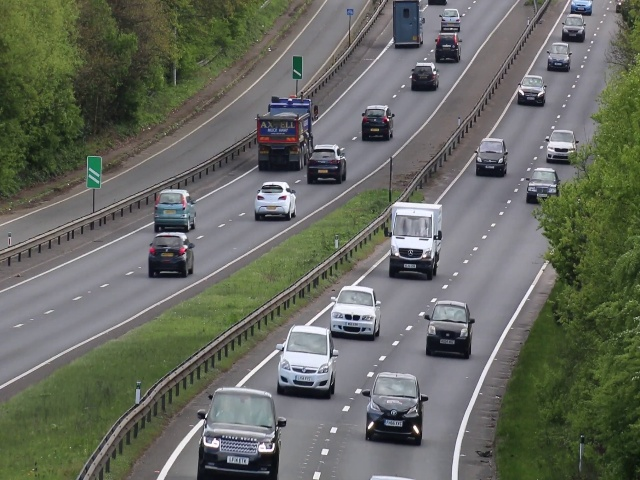car: (197, 387, 282, 479), (385, 201, 442, 282), (277, 324, 336, 398), (367, 374, 421, 442), (423, 300, 476, 359), (330, 283, 381, 340), (255, 96, 320, 140), (147, 231, 195, 277), (150, 188, 198, 229), (251, 179, 297, 220), (306, 144, 348, 184), (391, 1, 425, 48), (359, 102, 395, 144), (474, 137, 507, 177), (525, 162, 556, 202), (544, 127, 577, 164), (517, 74, 546, 110), (432, 32, 463, 63), (544, 39, 572, 72), (562, 15, 587, 41), (440, 7, 461, 30)
